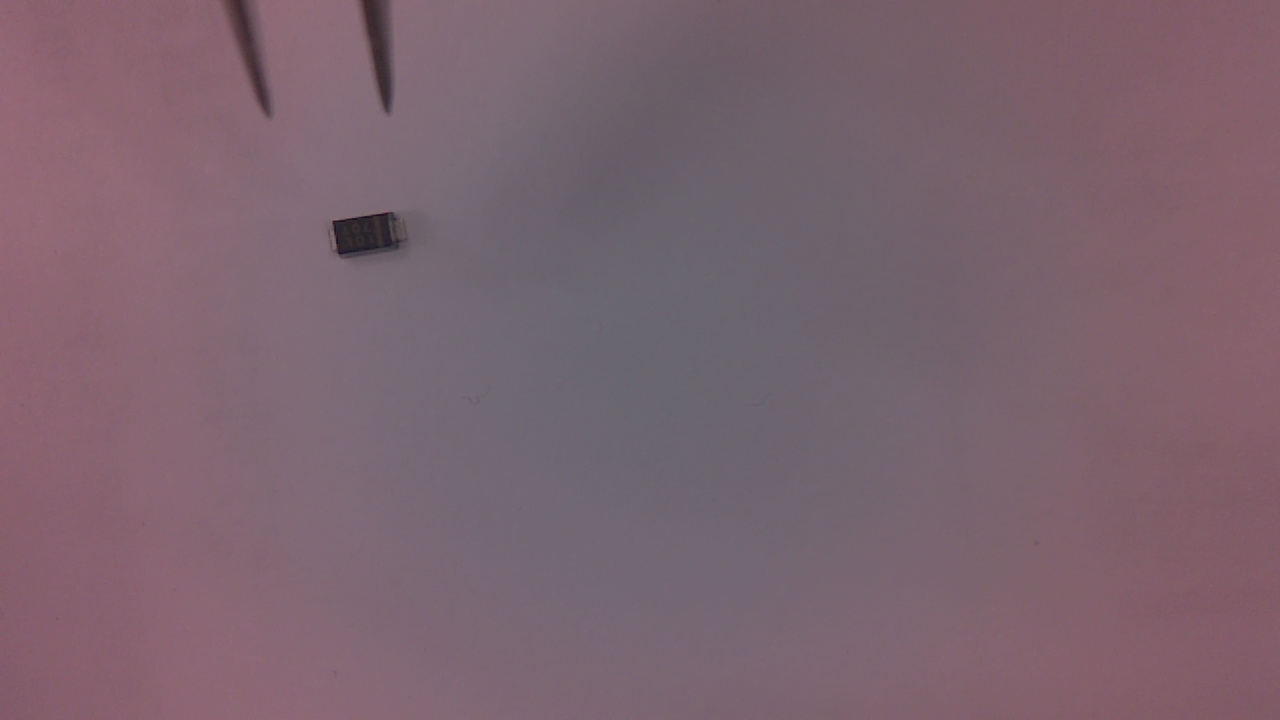Diode: (332, 213, 414, 264)
